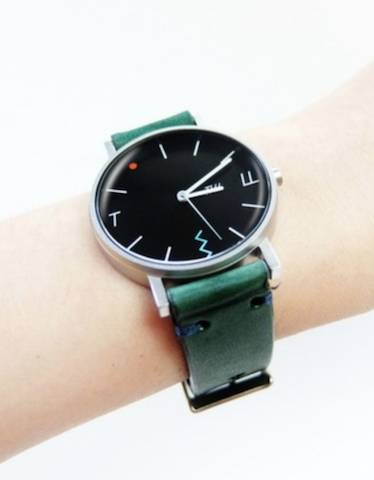watch: (90, 103, 283, 420)
